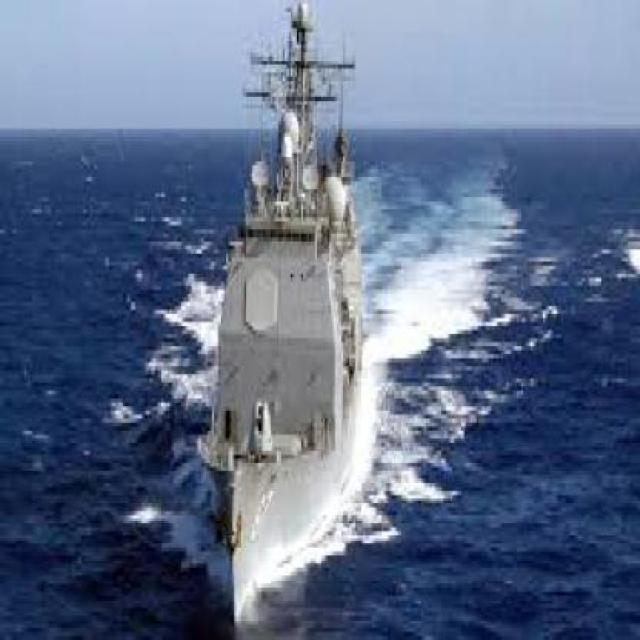warship2: (189, 9, 384, 629)
